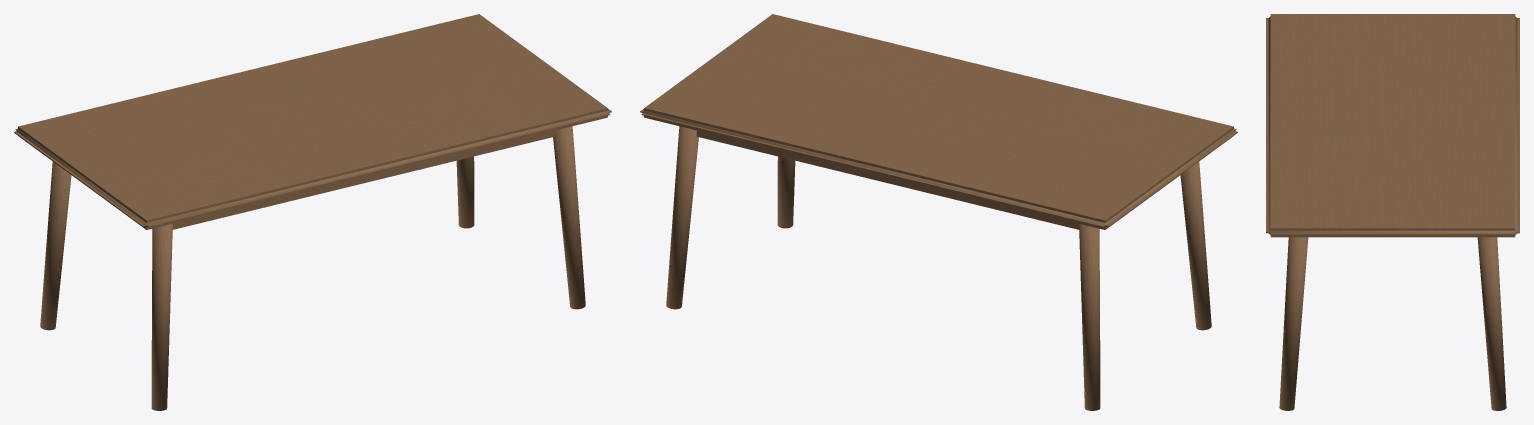
The model's file is traditional.dining_table.gltf.
The picture shows the model from 3 angles, left to right: view 1: azimuth 30°, elevation 25°; view 2: azimuth 150°, elevation 25°; view 3: azimuth 270°, elevation 25°; orthographic projection. The views are drawn at different scales.
Visible parts, largest first — view 1: traditional.dining_table.rounded-top; view 2: traditional.dining_table.rounded-top; view 3: traditional.dining_table.rounded-top.
Part boxes in pixels (x1=…): traditional.dining_table.rounded-top: x1=14, y1=14, x2=611, y2=410; traditional.dining_table.rounded-top: x1=640, y1=14, x2=1237, y2=410; traditional.dining_table.rounded-top: x1=1266, y1=14, x2=1519, y2=410.
Bounding box in the file's own units: 1.85 × 0.7523 × 0.91.
1 material, 1 textured.
